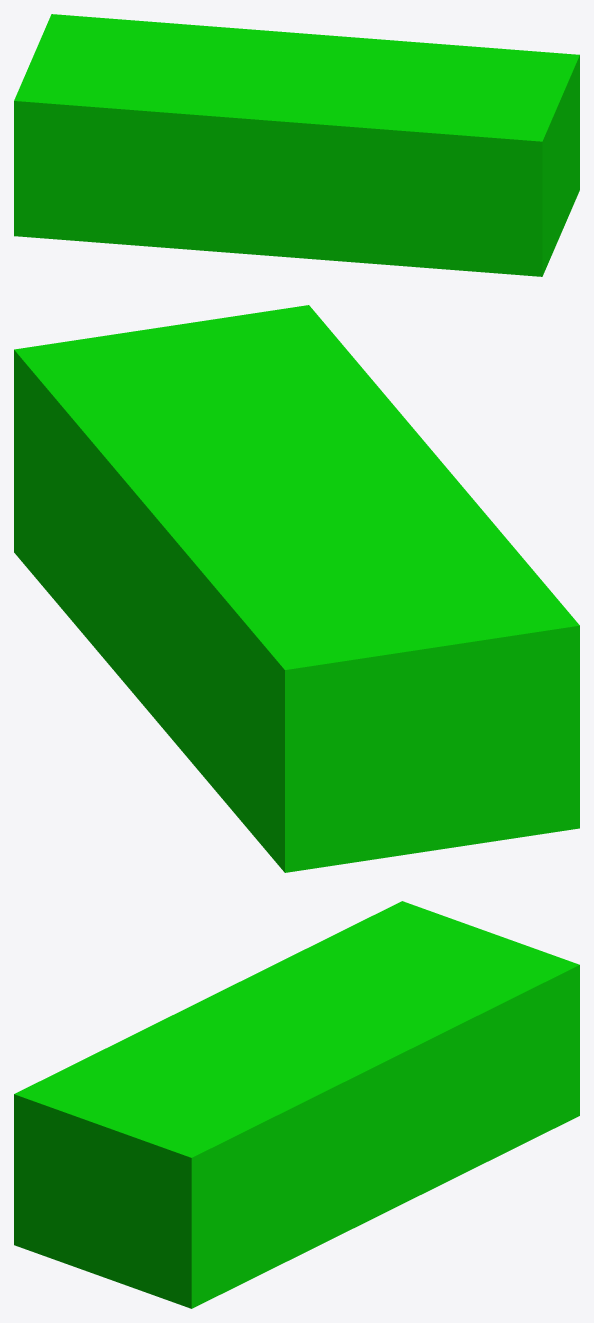
File: hest3_m.glb
3 renders of one model, top to bottom at view 1: azimuth 30°, elevation 25°; view 2: azimuth 150°, elevation 25°; view 3: azimuth 270°, elevation 25°, orthographic. The views are drawn at different scales.
Parts seen in each view (by area): view 1: te_Part1.2; view 2: te_Part1.2; view 3: te_Part1.2.
Boxes of the visible parts, x1,y1,x2,y2 form: te_Part1.2: (14, 14, 579, 276); te_Part1.2: (14, 305, 579, 872); te_Part1.2: (14, 901, 579, 1308).
Size of the model in its own units: 0.1014 by 0.0278 by 0.0944.
